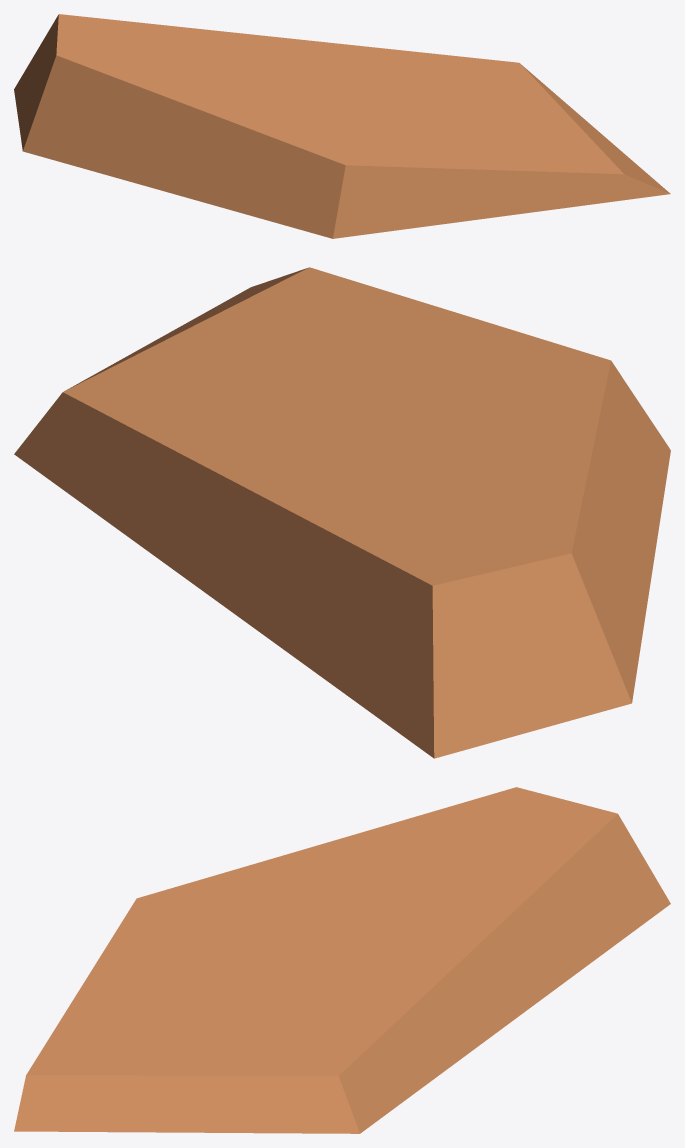
File: rocksmall4.fbx
3 renders of one model, top to bottom at view 1: azimuth 30°, elevation 25°; view 2: azimuth 150°, elevation 25°; view 3: azimuth 270°, elevation 25°, orthographic. The views are drawn at different scales.
Parts seen in each view (by area): view 1: rocksmall4; view 2: rocksmall4; view 3: rocksmall4.
Boxes of the visible parts, x1=… form: rocksmall4: x1=14, y1=14, x2=670, y2=238; rocksmall4: x1=14, y1=267, x2=670, y2=758; rocksmall4: x1=14, y1=787, x2=670, y2=1133.
Size of the model in its own units: 67.4 by 12.42 by 70.98.
